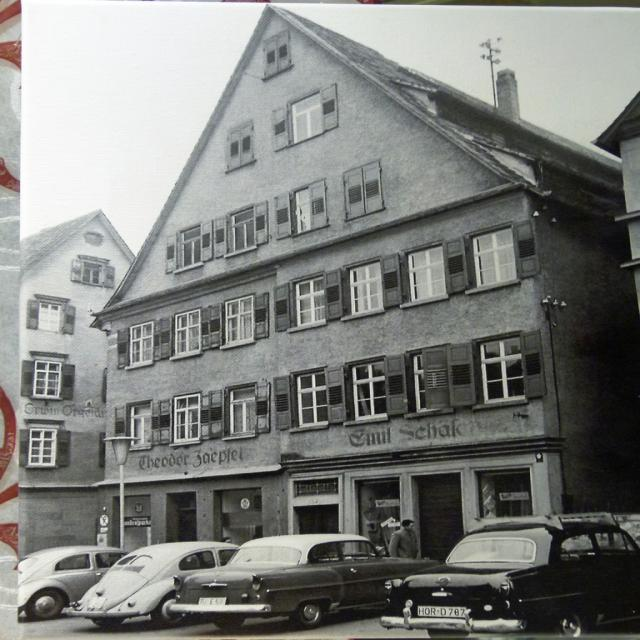other: (378, 517, 639, 639), (179, 536, 438, 630), (59, 542, 240, 628), (13, 547, 124, 621)
